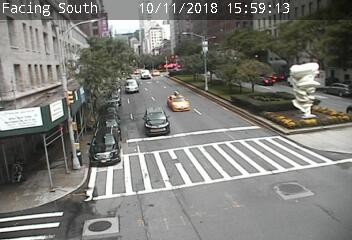car: (145, 107, 169, 135), (167, 95, 190, 111), (140, 69, 150, 79), (151, 70, 160, 76)
